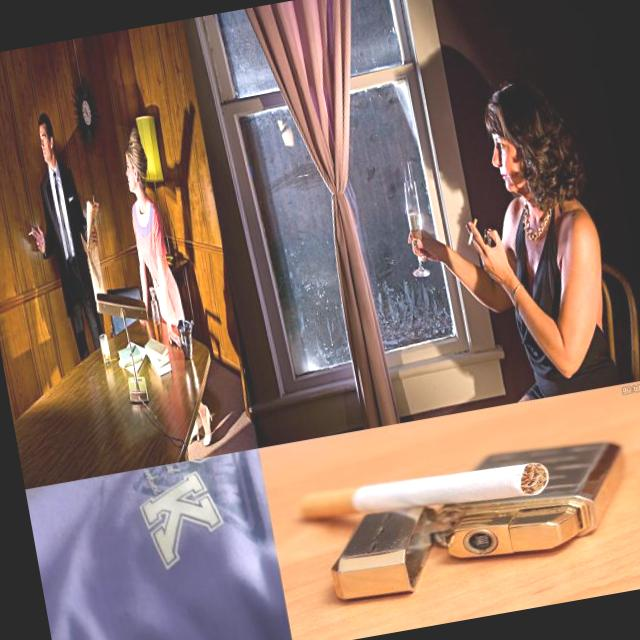smoke: (298, 451, 552, 536), (462, 218, 482, 248), (27, 230, 35, 236)
